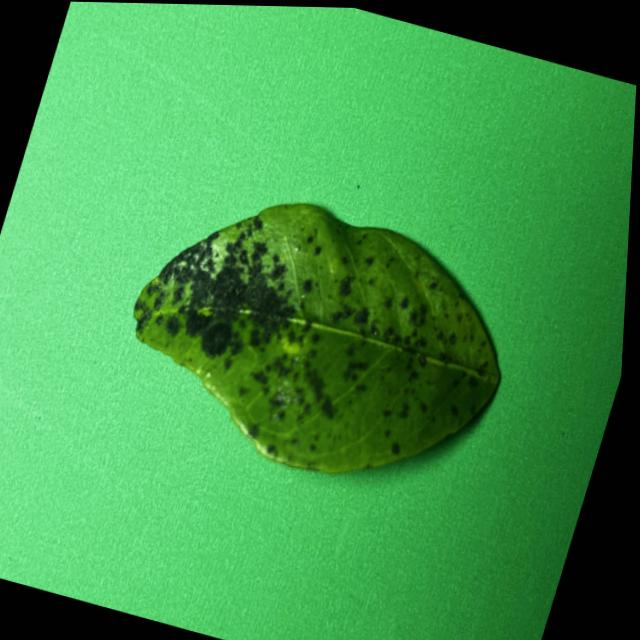sooty_mold: (135, 203, 470, 471)
